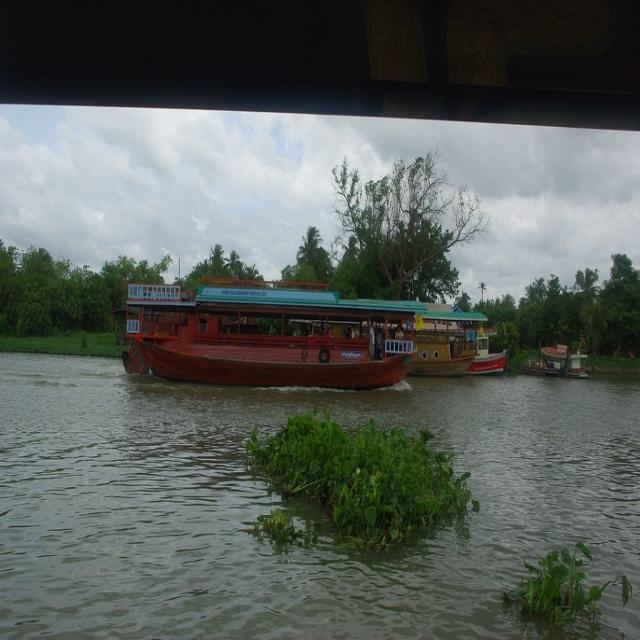Hyacinth: (248, 411, 481, 562), (516, 552, 616, 628)
boat: (122, 280, 420, 387), (143, 335, 419, 393), (523, 346, 596, 380)
